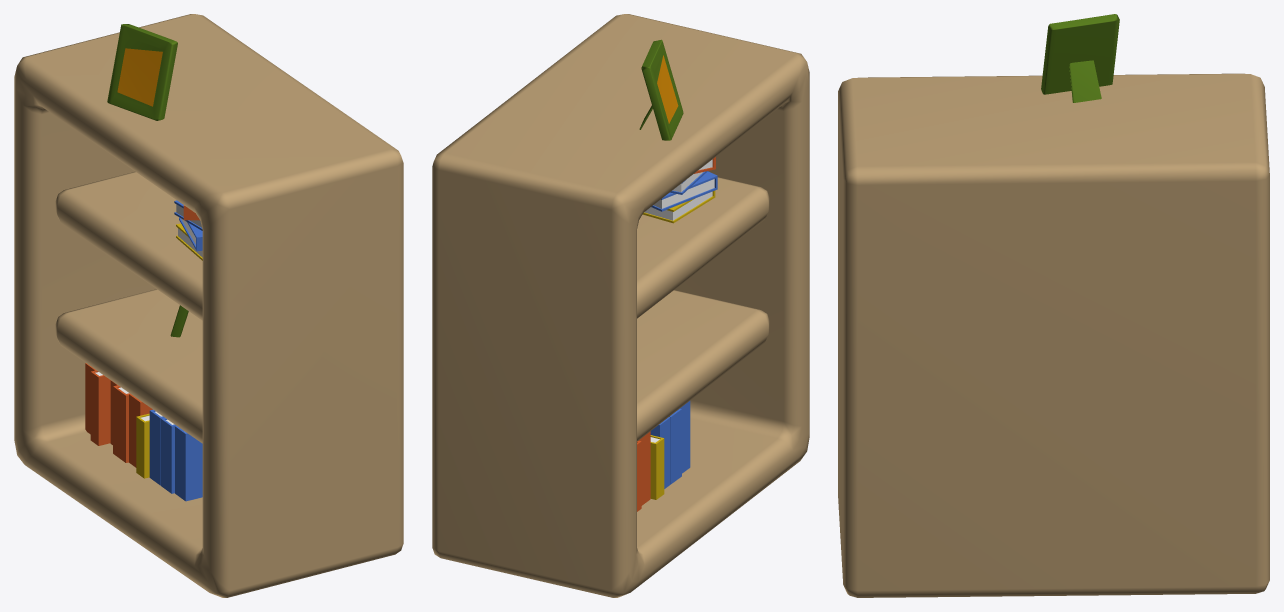
File: armadietto_LOD2.fbx
3 renders of one model, left to right at view 1: azimuth 30°, elevation 25°; view 2: azimuth 150°, elevation 25°; view 3: azimuth 270°, elevation 25°, orthographic. The views are drawn at different scales.
Parts seen in each view (by area): view 1: cabinet_01_001; view 2: cabinet_01_001; view 3: cabinet_01_001.
Part boxes in pixels (x1=…): cabinet_01_001: x1=14, y1=14, x2=403, y2=597; cabinet_01_001: x1=432, y1=14, x2=809, y2=597; cabinet_01_001: x1=838, y1=14, x2=1269, y2=597.
Bounding box in the file's own units: 186 × 422 × 325.
